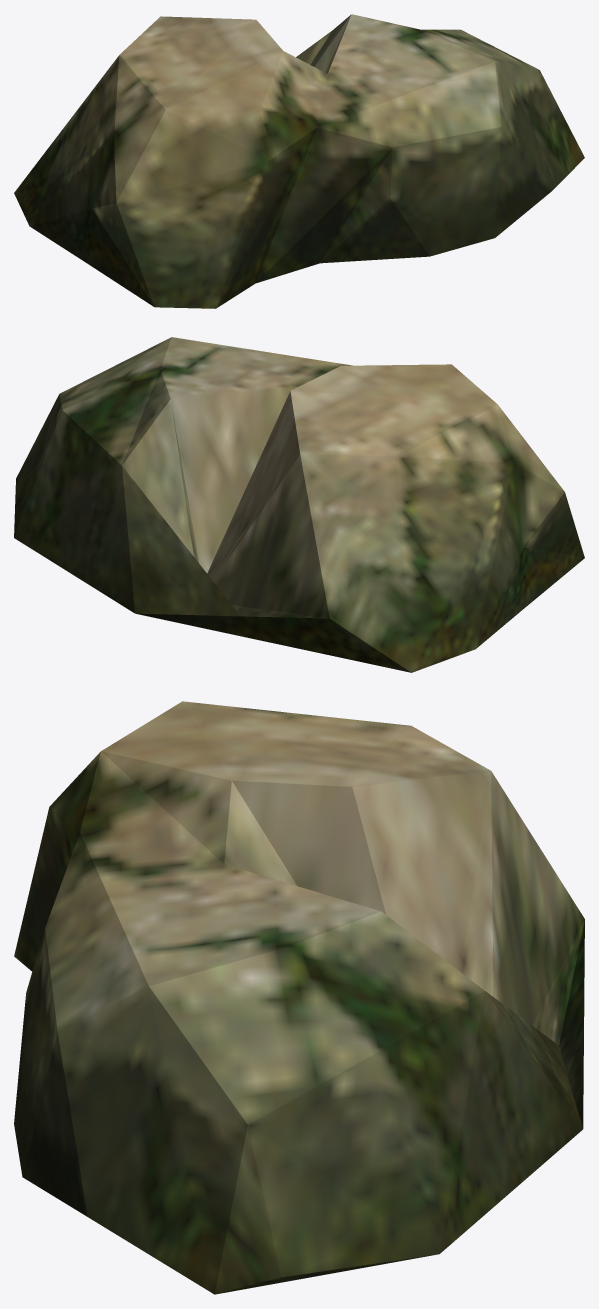
Rendered from lianqizong_shitou22_st.FBX.
3 views of the same model, one above another, from view 1: azimuth 30°, elevation 25°; view 2: azimuth 150°, elevation 25°; view 3: azimuth 270°, elevation 25° (orthographic). The views are drawn at different scales.
Visible parts, largest first — view 1: lianqizong_shitou22_st_A; view 2: lianqizong_shitou22_st_A; view 3: lianqizong_shitou22_st_A.
Boxes of the visible parts, x1=… form: lianqizong_shitou22_st_A: x1=14, y1=14, x2=584, y2=308; lianqizong_shitou22_st_A: x1=14, y1=337, x2=584, y2=672; lianqizong_shitou22_st_A: x1=14, y1=701, x2=584, y2=1294.
Bounding box in the file's own units: 20.05 × 6.95 × 12.68.
